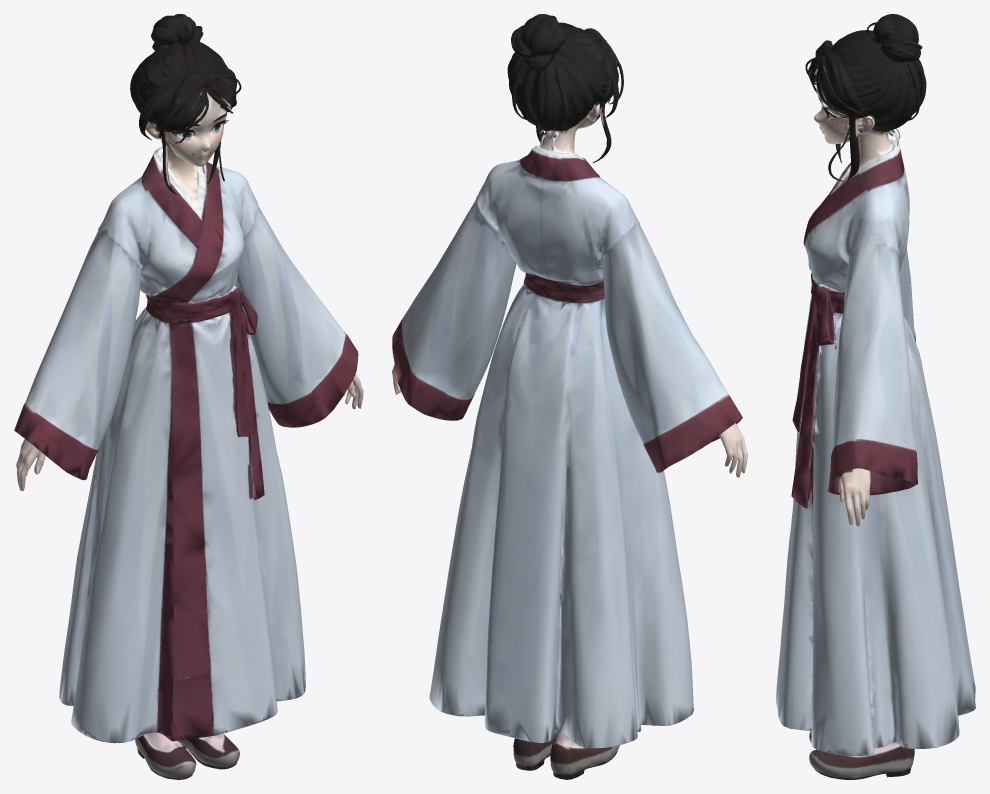
File: abisa.glb
3 renders of one model, left to right at view 1: azimuth 30°, elevation 25°; view 2: azimuth 150°, elevation 25°; view 3: azimuth 270°, elevation 25°, orthographic. The views are drawn at different scales.
Visible parts, largest first — view 1: Mesh_0; view 2: Mesh_0; view 3: Mesh_0.
Part boxes in pixels (box(x1,y1,x2,y2)): Mesh_0: box(14, 14, 363, 779); Mesh_0: box(392, 14, 747, 779); Mesh_0: box(776, 14, 975, 779).
Bounding box in the file's own units: 0.4901 × 1 × 0.2418.
Materials: 1 (1 with a texture image).
